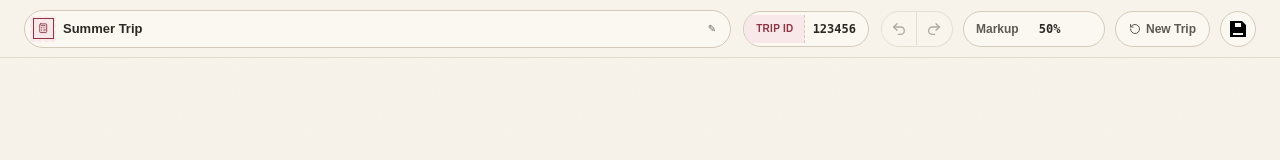
Test case: TripToolbar › FE-TBR-004 clicking markup toggle shows editing input pre-filled with globalMarkup
Click the button "Markup 50%" at (1034, 28), box [963,10,1105,46]
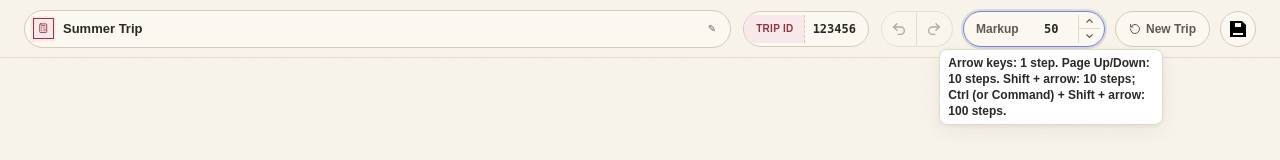
Expected: the number field named "Global markup percentage" holds "50", [1025,14,1078,42]
